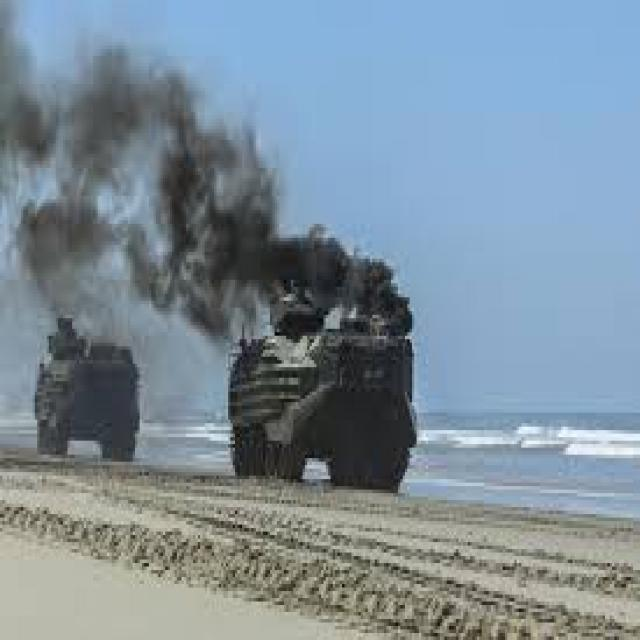smoke: (2, 3, 410, 336)
